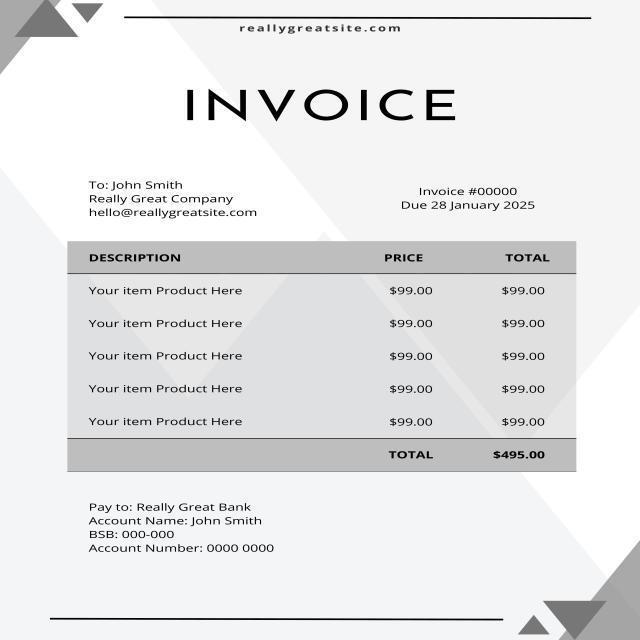ROI: (67, 239, 571, 439), (178, 79, 470, 131), (81, 496, 282, 559), (84, 172, 269, 224), (394, 183, 544, 218), (382, 443, 556, 466), (233, 19, 404, 37)
